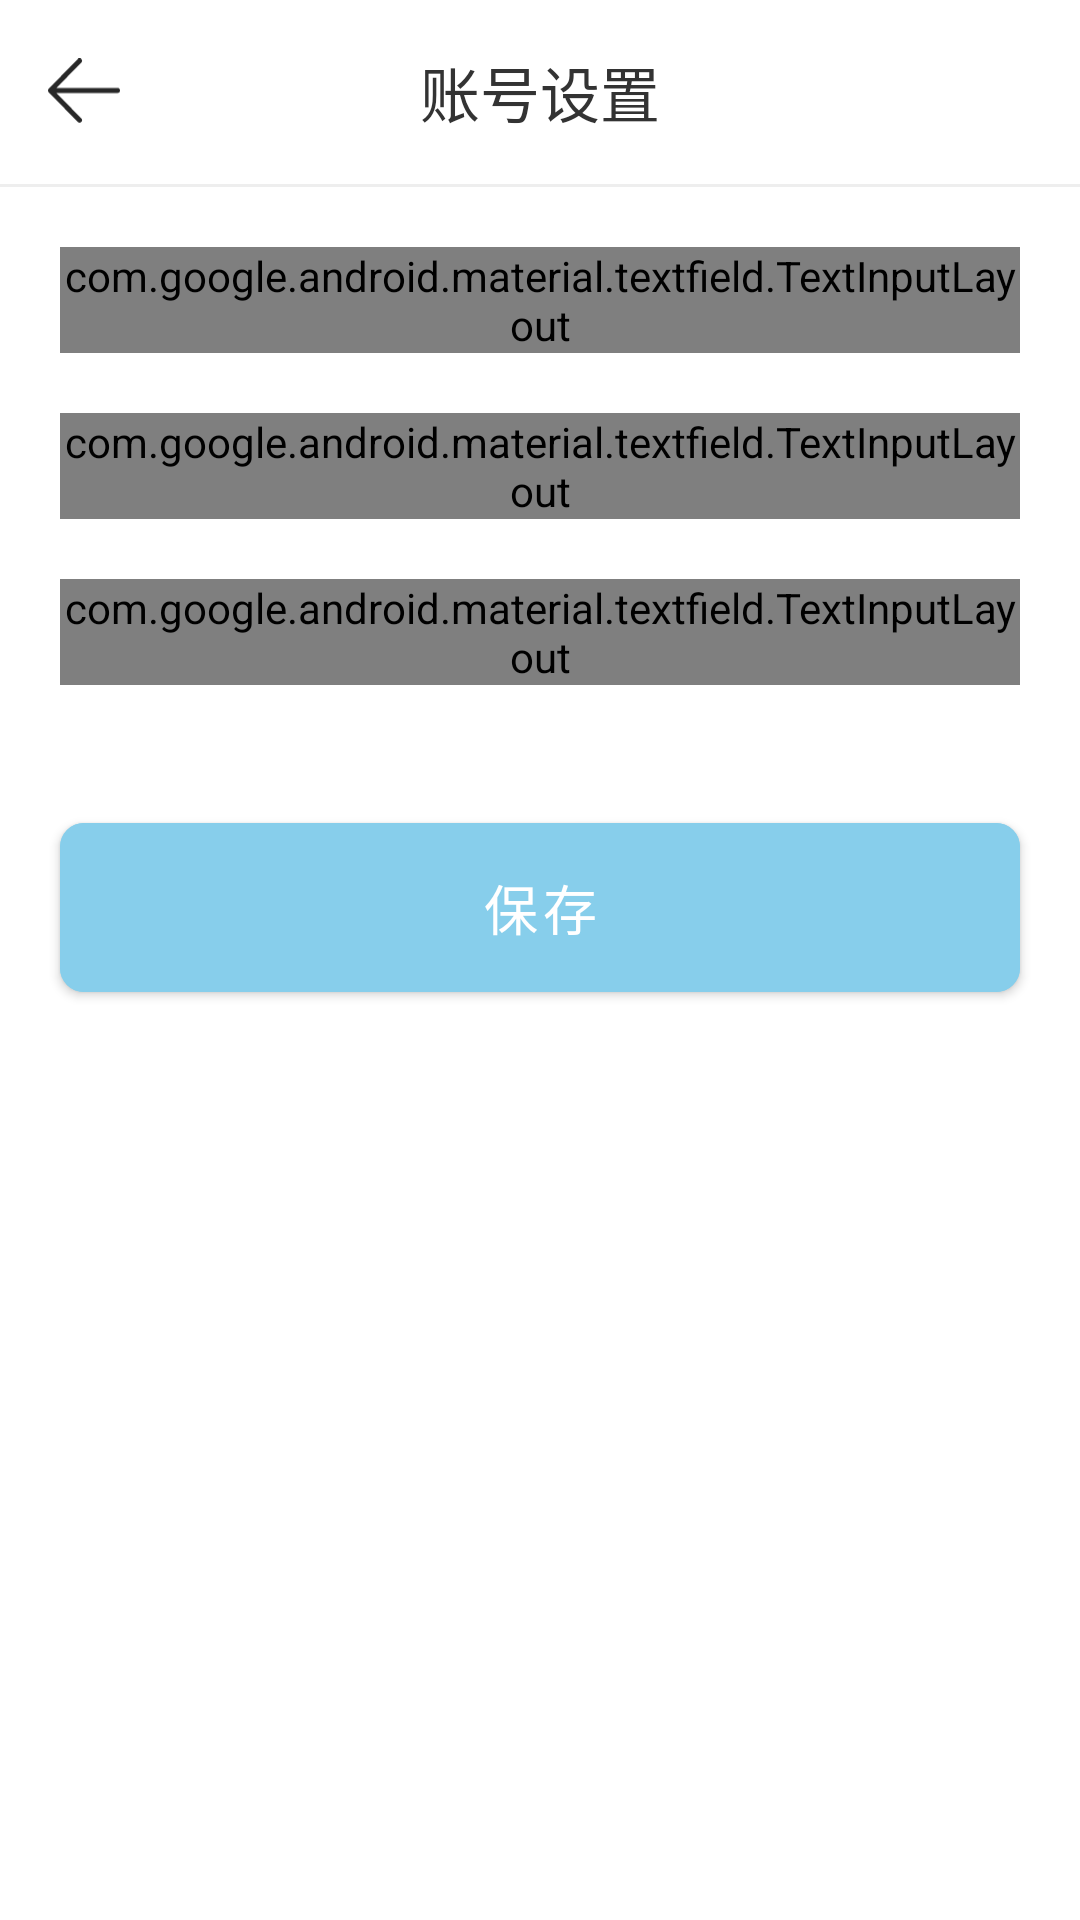

Icon click points for this 1080 × 1920 phone screenshot, format point (x, y):
back: point (84, 90)
